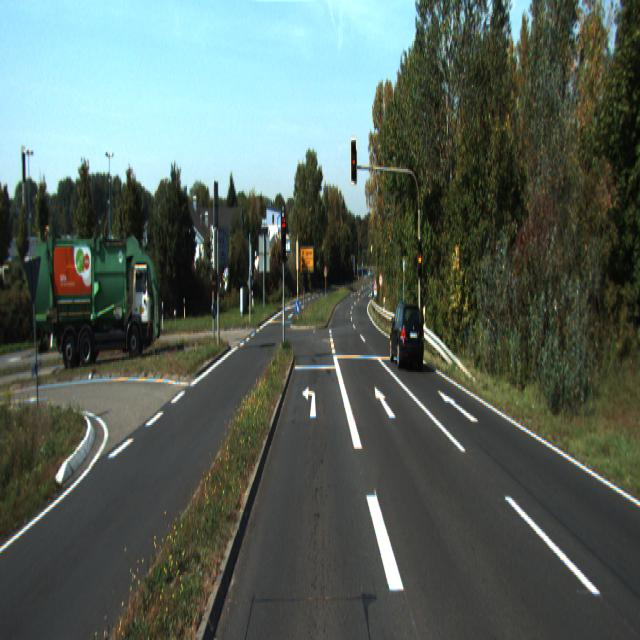Car: (29, 236, 161, 368), (389, 300, 425, 369)
